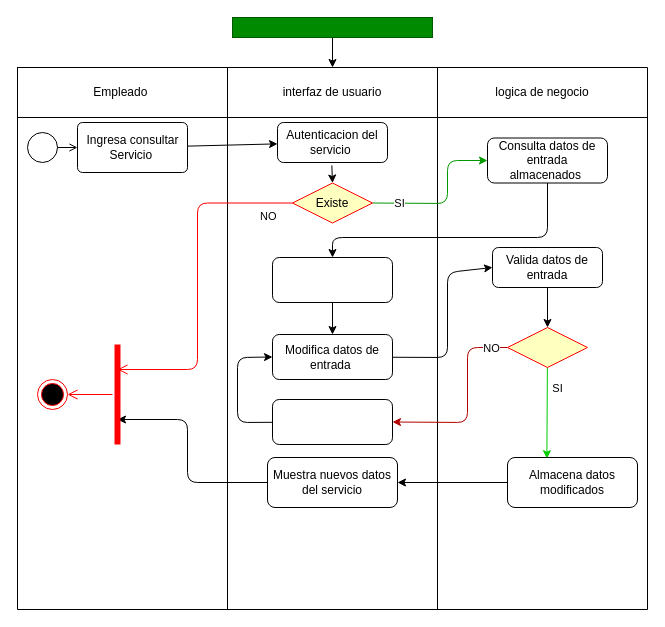
Some shapes in this 665 by 627 pixel diagram are drawn without their labels. Here are the shapes that lost their labels. From the top down, the box of each, then its label:
(232, 16, 432, 38): DAE.5.2.ACTUALIZAR SERVICIO
(272, 256, 392, 302): Muestra datos de entrada
(506, 326, 588, 368): Exitoso
(272, 398, 392, 444): Error de datos
